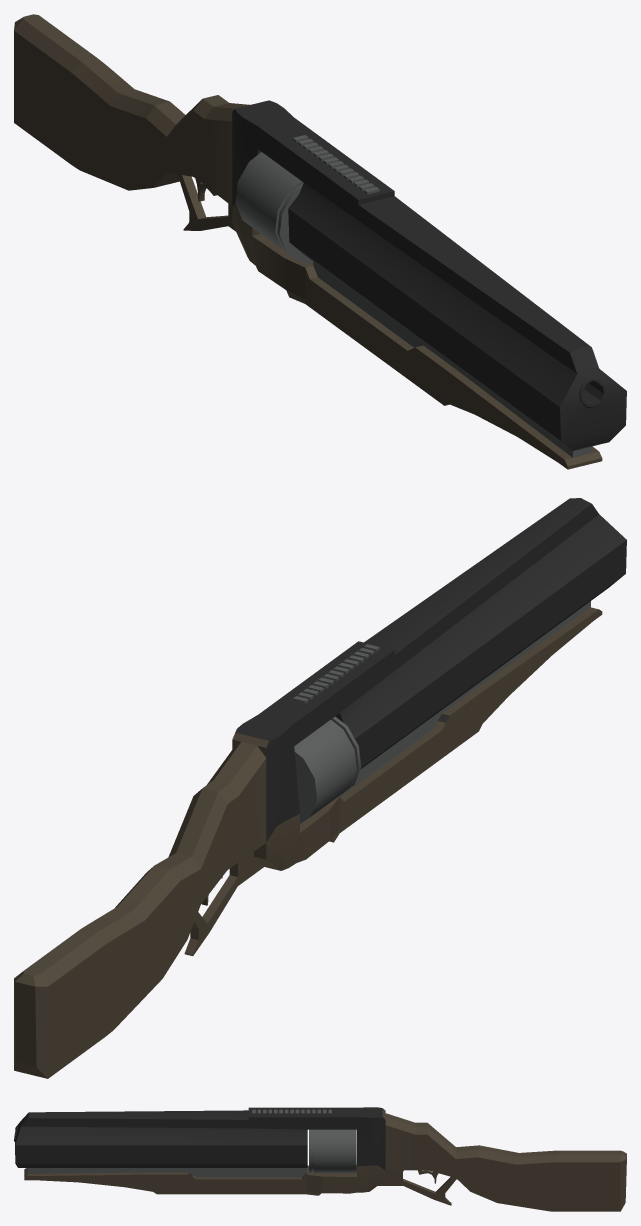
The model's file is Brokovnica.fbx.
3 renders of one model, top to bottom at view 1: azimuth 30°, elevation 25°; view 2: azimuth 150°, elevation 25°; view 3: azimuth 270°, elevation 25°, orthographic. The views are drawn at different scales.
Visible parts, largest first — view 1: Plane; view 2: Plane; view 3: Plane.
Part boxes in pixels (<box>): Plane: <box>14,14,626,469</box>; Plane: <box>14,498,626,1078</box>; Plane: <box>14,1107,626,1211</box>.
Size of the model in its own units: 37.19 by 77.78 by 450.
